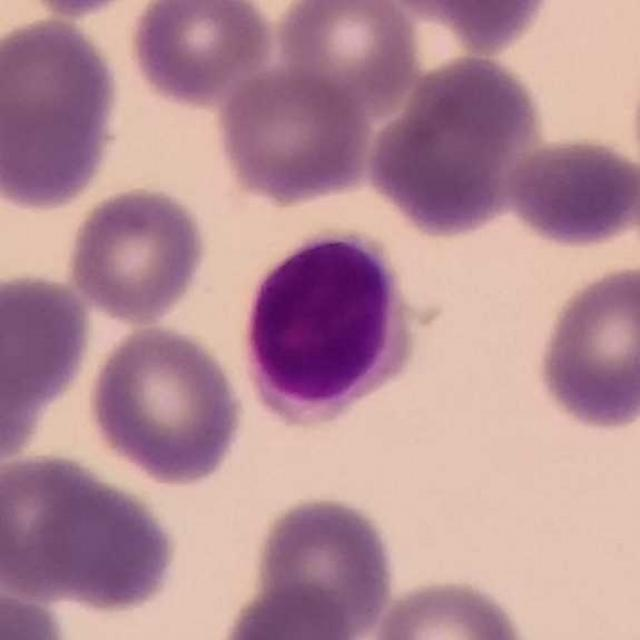Lymphocyte: (234, 224, 425, 432)
RBC: (363, 50, 549, 238), (0, 448, 181, 616), (83, 321, 250, 488), (0, 12, 127, 215), (212, 62, 375, 208), (248, 491, 399, 640), (64, 182, 212, 326), (531, 258, 640, 435), (0, 267, 96, 459), (269, 0, 422, 118), (125, 0, 278, 108), (503, 132, 640, 252), (0, 481, 86, 640), (368, 573, 536, 640), (377, 0, 559, 50), (213, 577, 355, 640), (0, 584, 76, 640), (13, 0, 157, 21), (625, 33, 640, 211)
